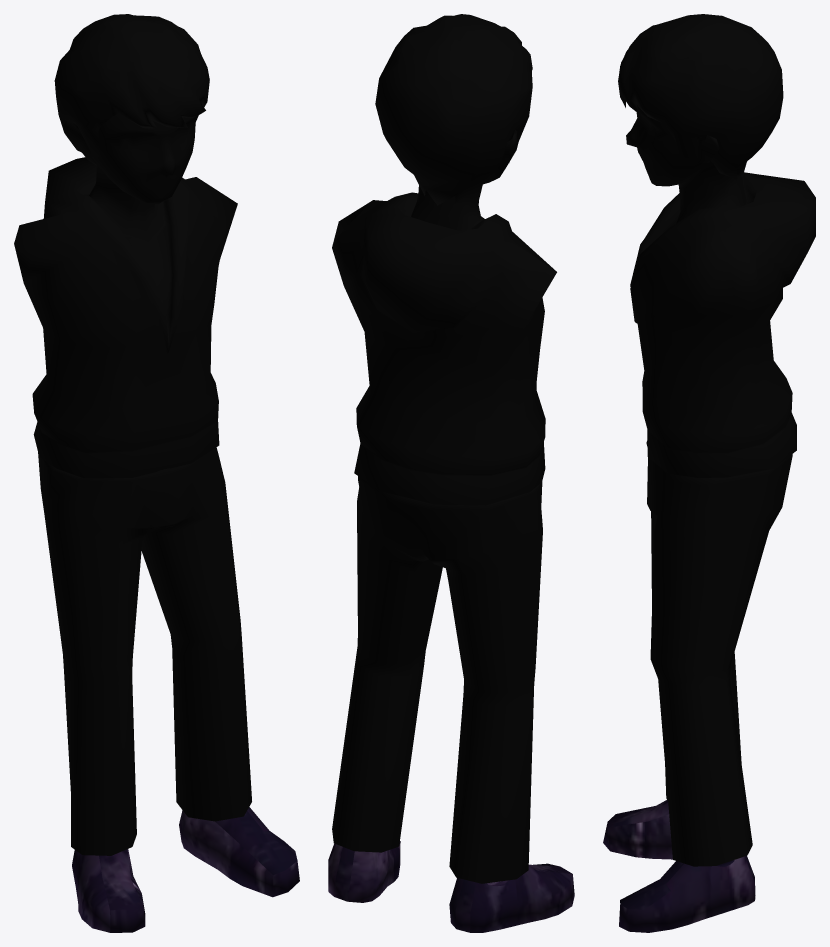
Rendered from statue-greek-01-art.glb.
3 views of the same model, side by side, from view 1: azimuth 30°, elevation 25°; view 2: azimuth 150°, elevation 25°; view 3: azimuth 270°, elevation 25° (orthographic). The views are drawn at different scales.
Visible parts, largest first — view 1: Statue_greek_01_Art; view 2: Statue_greek_01_Art; view 3: Statue_greek_01_Art.
Part boxes in pixels (<box>): Statue_greek_01_Art: <box>14,14,299,932</box>; Statue_greek_01_Art: <box>328,14,574,932</box>; Statue_greek_01_Art: <box>603,14,815,932</box>.
Size of what is drawn, in the model's own units: 0.5746 by 1.95 by 0.4401.
1 material, 1 textured.
